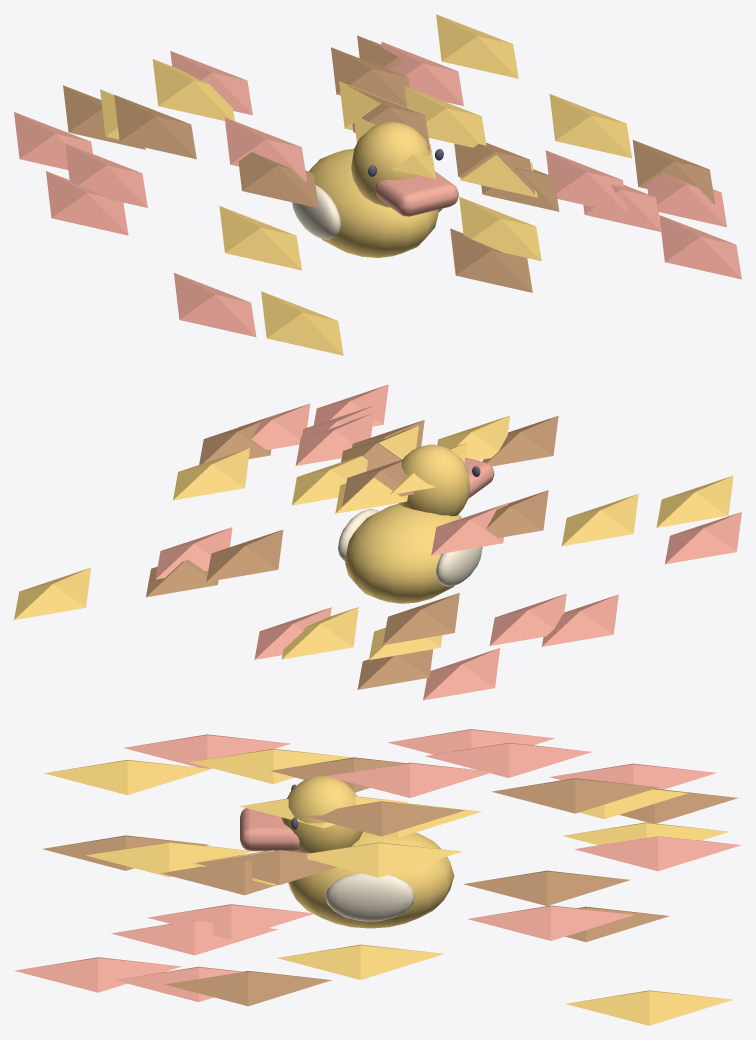
File: play-leaves.glb
3 views of the same model, one above another, from view 1: azimuth 30°, elevation 25°; view 2: azimuth 150°, elevation 25°; view 3: azimuth 270°, elevation 25° (orthographic). The views are drawn at different scales.
Parts seen in each view (by area): view 1: HiddenDuck surfaces, Curled autumn leaf.010, Curled autumn leaf.004, Curled autumn leaf.007, Curled autumn leaf.008, Curled autumn leaf.013, Curled autumn leaf.015, Curled autumn leaf, Curled autumn leaf.003, Curled autumn leaf.031, Curled autumn leaf.029, Curled autumn leaf.009 (+21 smaller); view 2: HiddenDuck surfaces, Curled autumn leaf.020, Curled autumn leaf.013, Curled autumn leaf.004, Curled autumn leaf, Curled autumn leaf.024, Curled autumn leaf.008, Curled autumn leaf.010, Curled autumn leaf.007, Curled autumn leaf.009, Curled autumn leaf.003, Curled autumn leaf.019 (+20 smaller); view 3: HiddenDuck surfaces, Curled autumn leaf.004, Curled autumn leaf.008, Curled autumn leaf.013, Curled autumn leaf.020, Curled autumn leaf.007, Curled autumn leaf.021, Curled autumn leaf.009, Curled autumn leaf.026, Curled autumn leaf.006, Curled autumn leaf.027, Curled autumn leaf.028 (+20 smaller).
Boxes of the visible parts, x1,y1,x2,y2 form: HiddenDuck surfaces: (292,122,458,257); Curled autumn leaf.010: (219,206,301,270); Curled autumn leaf.004: (436,14,518,78); Curled autumn leaf.007: (261,291,343,355); Curled autumn leaf.008: (114,95,196,159); Curled autumn leaf.013: (549,94,631,158); Curled autumn leaf.015: (659,215,741,279); Curled autumn leaf: (174,273,256,337); Curled autumn leaf.003: (46,171,128,235); Curled autumn leaf.031: (459,196,541,261); Curled autumn leaf.029: (450,228,532,292); Curled autumn leaf.009: (65,143,147,207); HiddenDuck surfaces: (338,444,494,603); Curled autumn leaf.020: (206,530,283,581); Curled autumn leaf.013: (173,448,249,500); Curled autumn leaf.004: (14,567,90,619); Curled autumn leaf: (665,512,741,564); Curled autumn leaf.024: (423,648,500,700); Curled autumn leaf.008: (383,593,459,645); Curled autumn leaf.010: (561,494,638,546); Curled autumn leaf.007: (656,475,733,527); Curled autumn leaf.009: (489,593,566,645); Curled autumn leaf.003: (541,594,618,646); Curled autumn leaf.019: (281,607,358,659); HiddenDuck surfaces: (240,775,454,928); Curled autumn leaf.004: (566,990,732,1025); Curled autumn leaf.008: (492,778,658,813); Curled autumn leaf.013: (277,944,444,979); Curled autumn leaf.020: (463,870,629,905); Curled autumn leaf.007: (44,759,210,795); Curled autumn leaf.021: (468,905,634,940); Curled autumn leaf.009: (425,742,591,777); Curled autumn leaf.026: (165,971,331,1006); Curled autumn leaf.006: (328,762,493,797); Curled autumn leaf.027: (574,836,741,871); Curled autumn leaf.028: (307,842,461,877).
Size of the model in its own units: 1.39 by 0.333 by 1.56.
